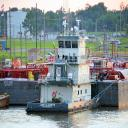tugboat: (26, 19, 102, 118)
